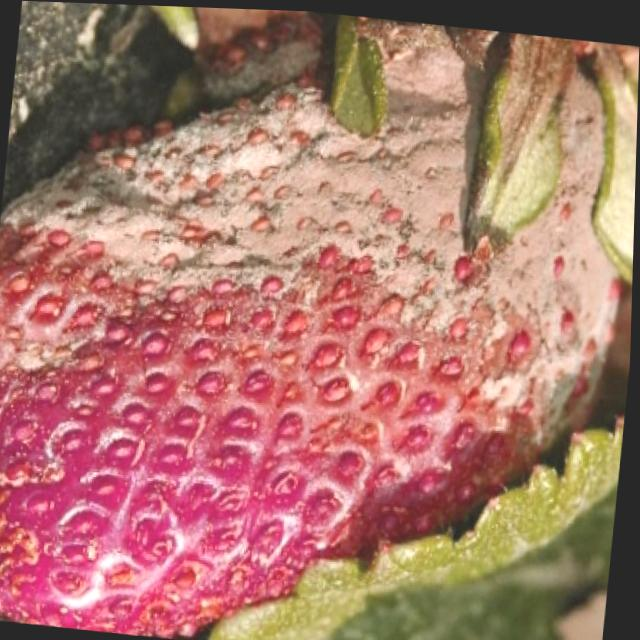Gray Mold: (0, 11, 639, 638)
